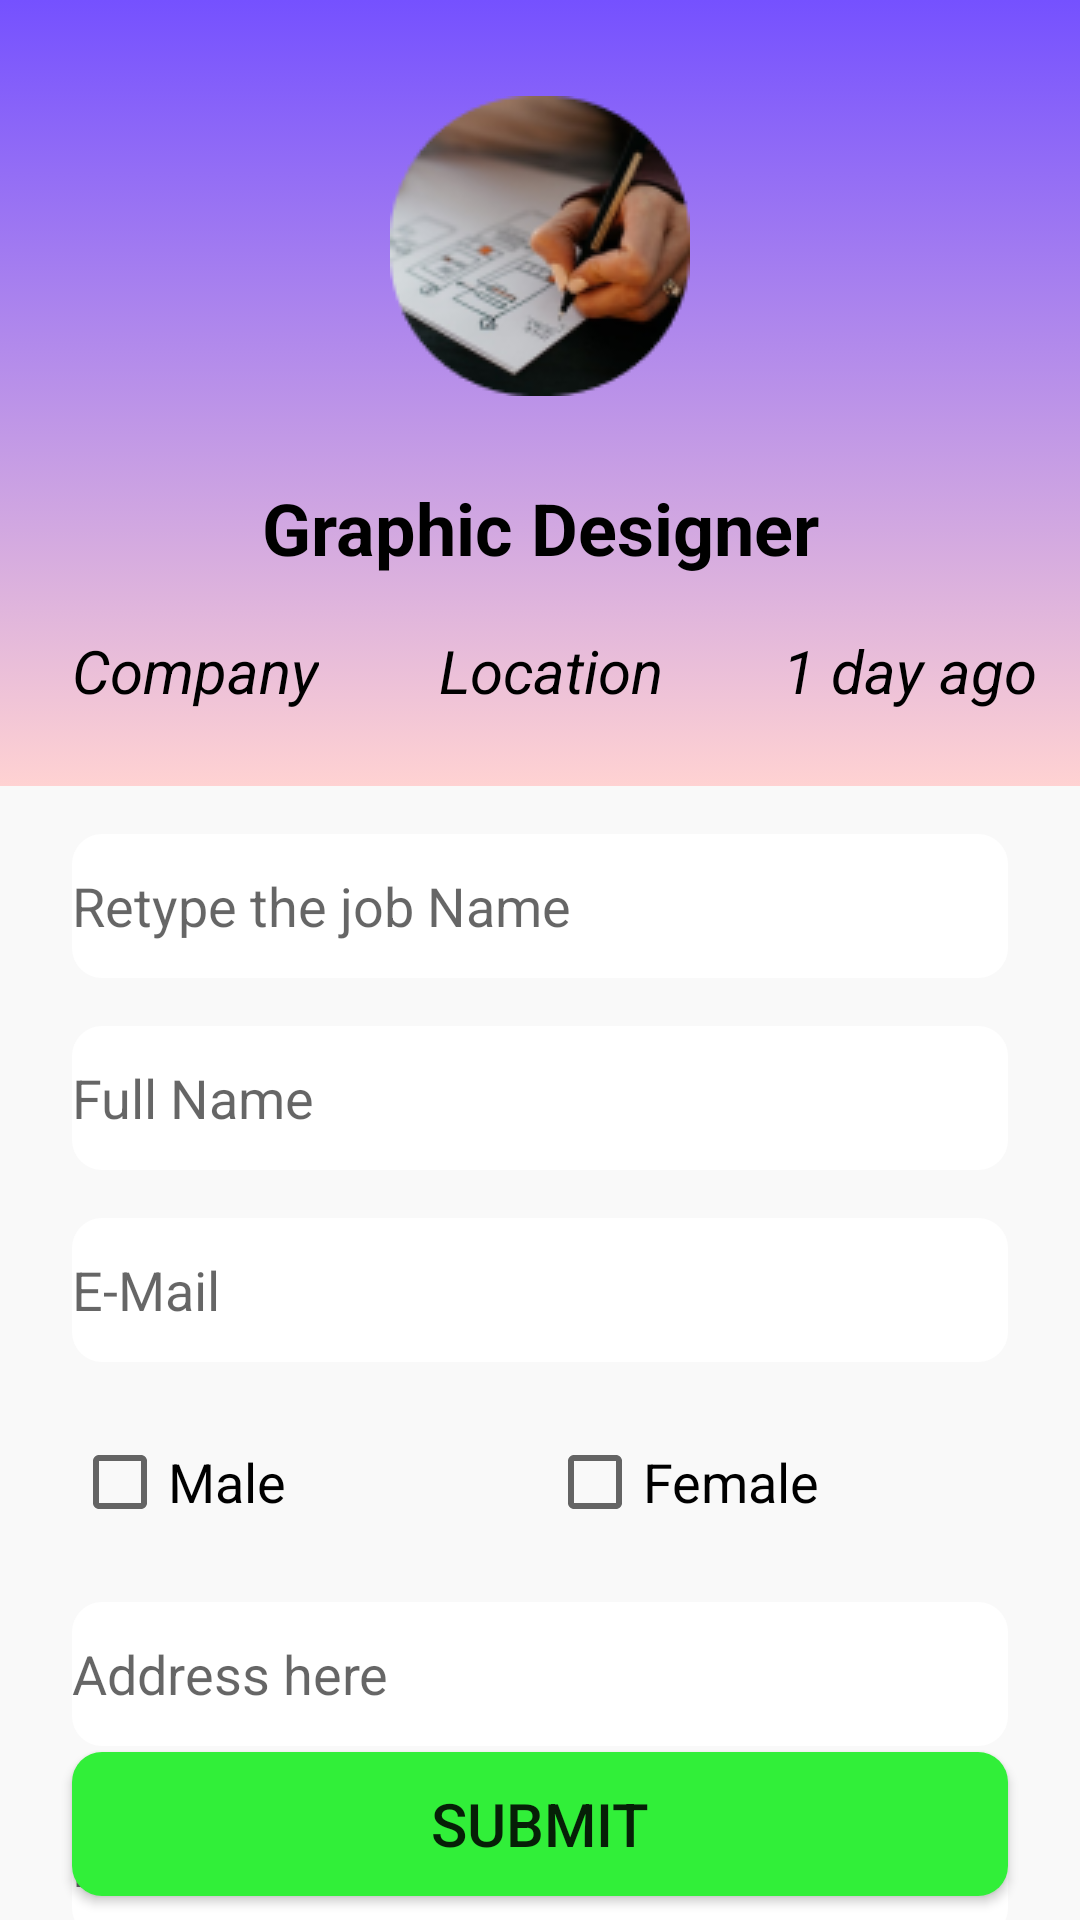

Screen size 1080 x 1920. Icon name, then its center in pixels as [x,y]:
job: [540,246]
